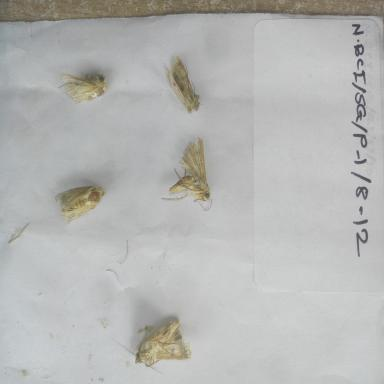abw: (109, 310, 196, 381), (156, 134, 217, 216), (158, 49, 207, 122), (51, 177, 109, 234), (51, 61, 112, 110)
